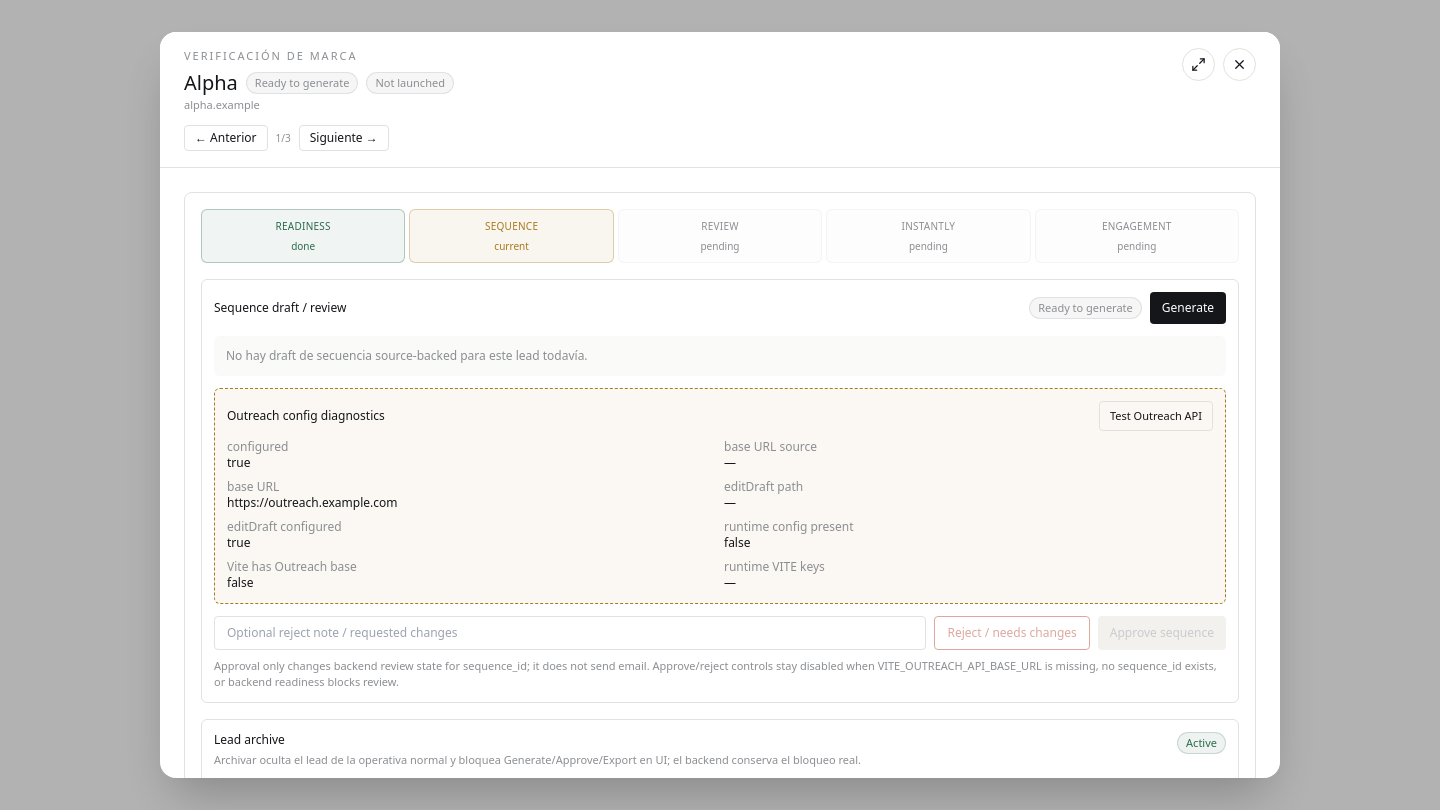
Test: BrandDrawer dashboard optimizations › renders as a large centered dialog and keeps fullscreen available
What coordinates should you click on to do the following:
click the button named "Pantalla completa"
I would click on:
 (1198, 65)
Its box is 1182,48 -> 1215,81.
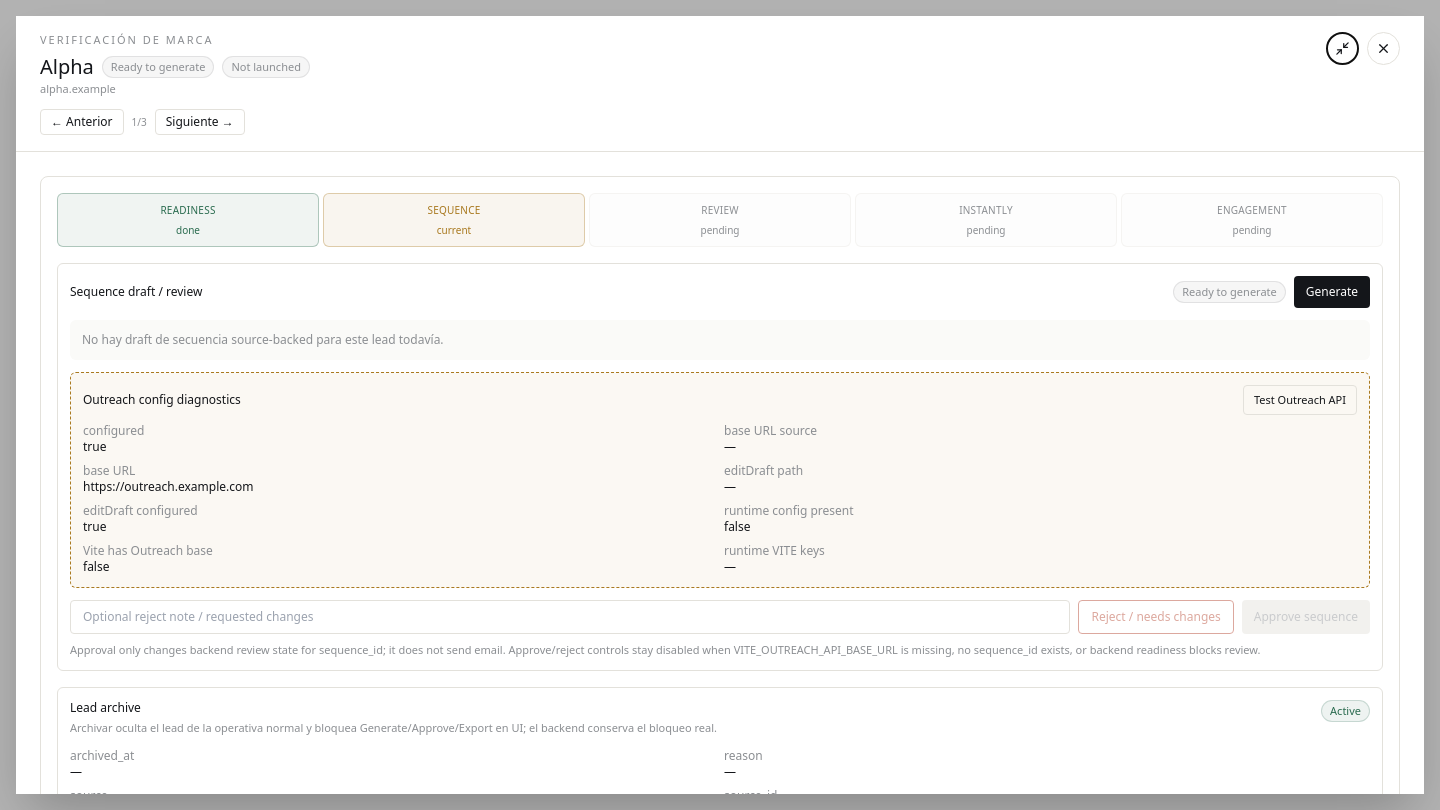
Expected: the button named "Restaurar panel" is shown, 1326,32 -> 1359,65
